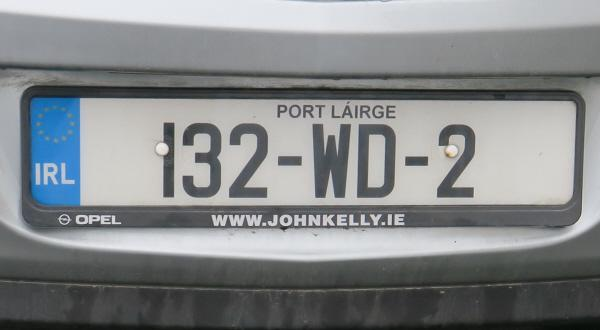2: (431, 109, 481, 205), (227, 121, 275, 202)
3: (182, 118, 225, 202)
D: (356, 117, 401, 206)
I: (157, 107, 180, 206)
W: (307, 114, 356, 203)
